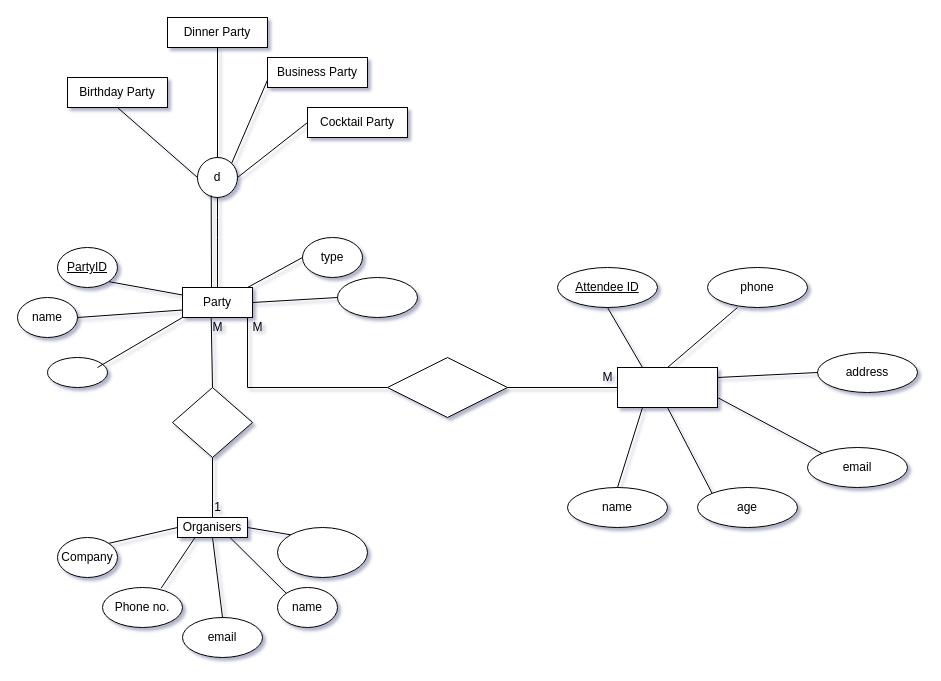
This 941x681 diagram has some shape labels left out. Here are the shapes that lost their labels. From the top down, the centre of each, then its label:
(x=377, y=297): no. of Guests
(x=77, y=372): Date & time
(x=447, y=387): attended by
(x=667, y=387): Attendees
(x=212, y=422): Organised by
(x=322, y=552): organiserID
